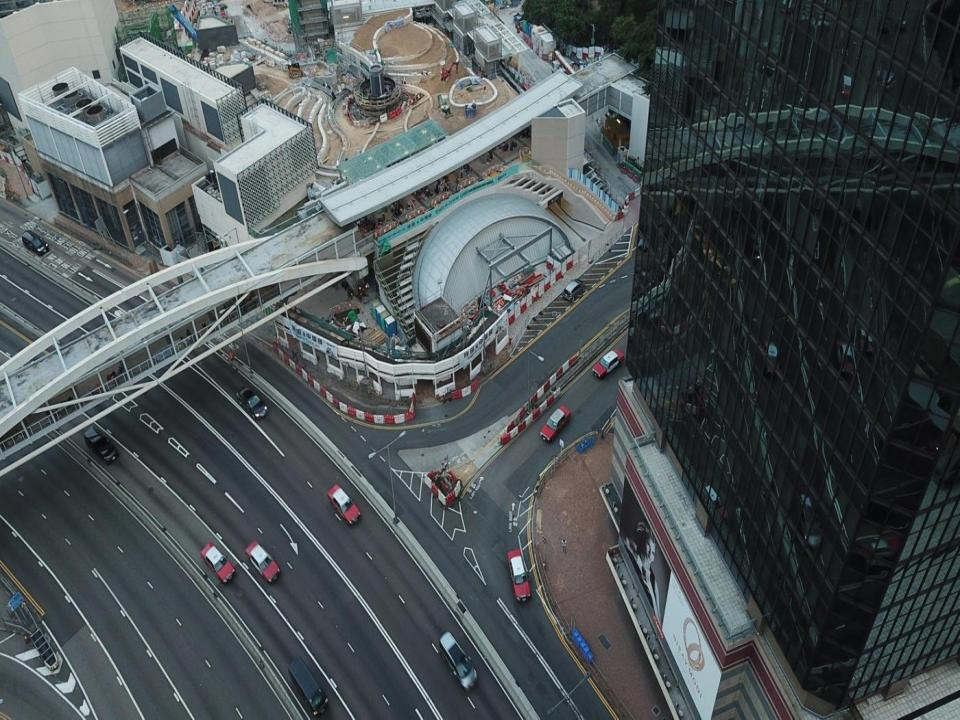car: (246, 540, 281, 585), (326, 481, 360, 526), (202, 539, 234, 585), (507, 547, 532, 602), (236, 386, 268, 420), (540, 407, 570, 443), (592, 345, 622, 380), (563, 280, 586, 302)
van: (286, 656, 329, 715), (438, 631, 477, 689), (85, 427, 120, 466), (21, 231, 49, 255)
